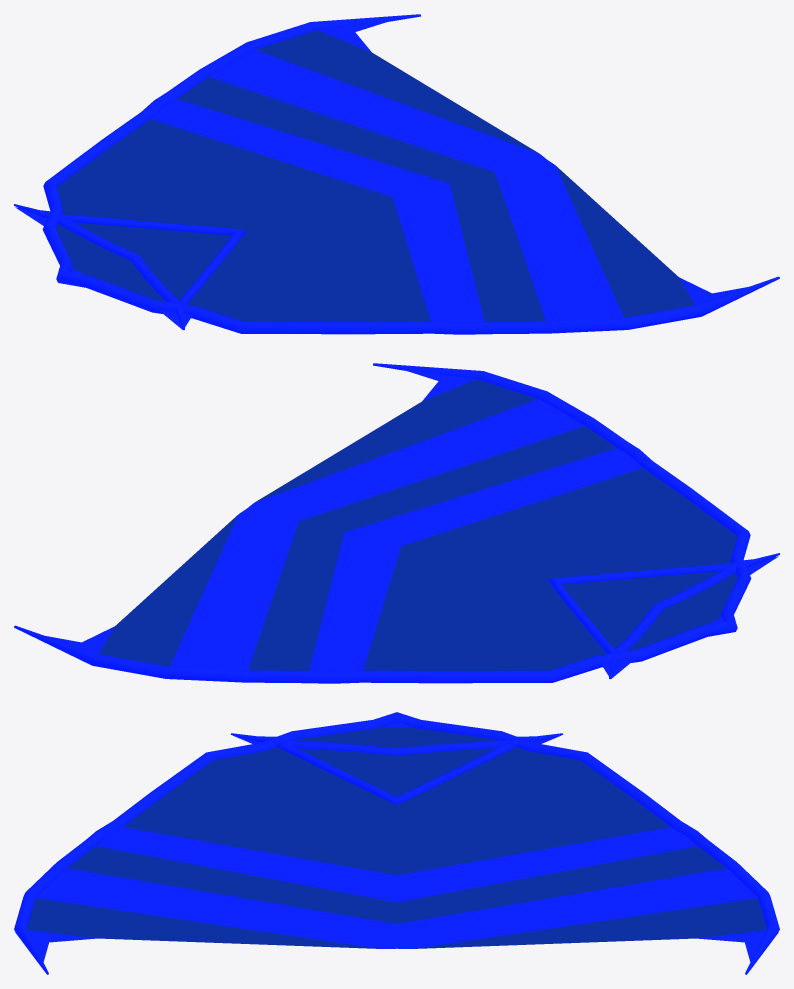
File: snake wing fin.fbx
3 renders of one model, top to bottom at view 1: azimuth 30°, elevation 25°; view 2: azimuth 150°, elevation 25°; view 3: azimuth 270°, elevation 25°, orthographic. The views are drawn at different scales.
Visible parts, largest first — view 1: wings.003; view 2: wings.003; view 3: wings.003.
Boxes of the visible parts, x1,y1,x2,y2 form: wings.003: [14, 14, 779, 334]; wings.003: [14, 363, 779, 683]; wings.003: [14, 712, 779, 974].
Size of the model in its own units: 489 by 10.22 by 612.
